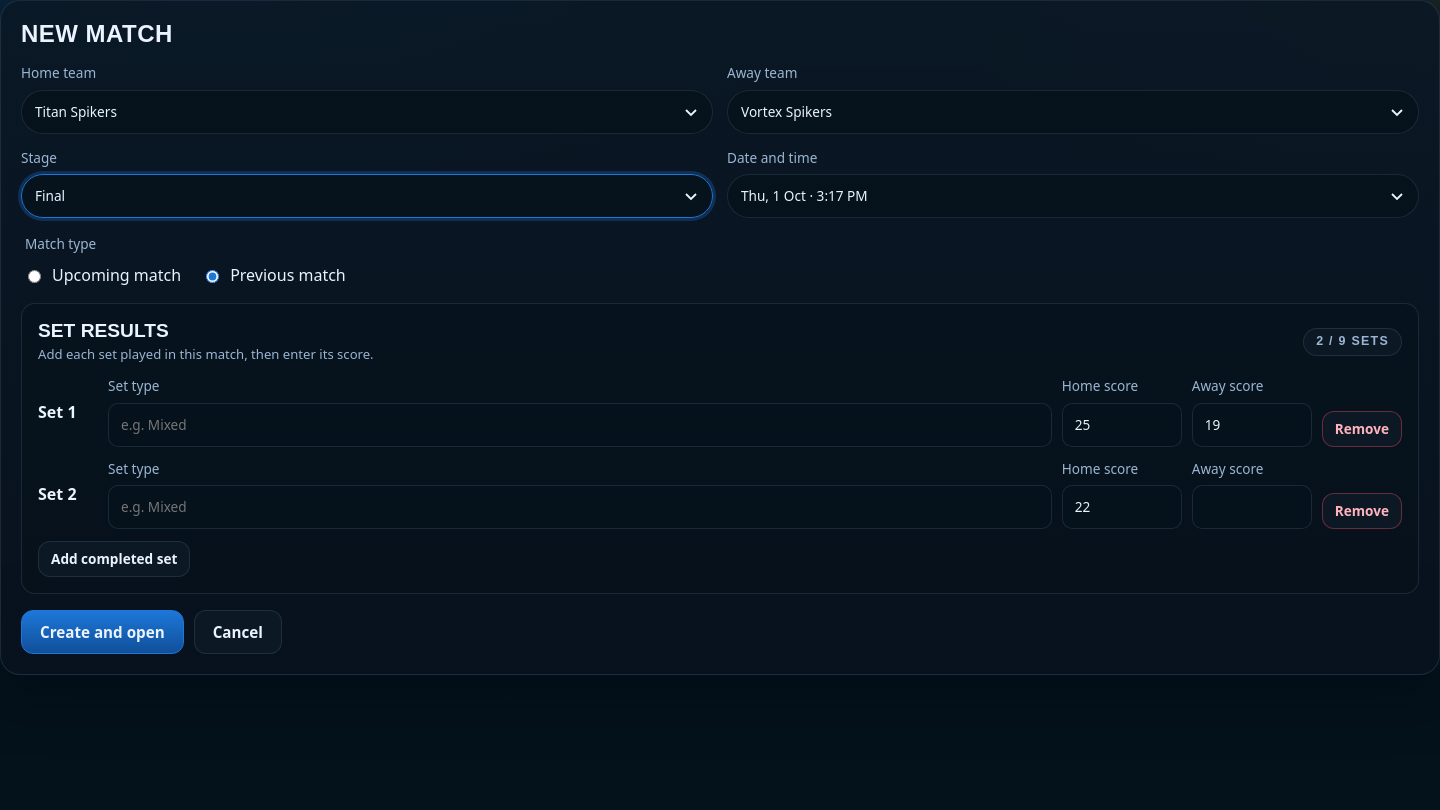
Test: new match form › creates a past completed match with its details and all set scores in one request
Earlier steps of the test are not shown.
Type "25" into the number field named "Set 2 away score".
click(1252, 507); type("25")  # box [1192,485,1312,529]
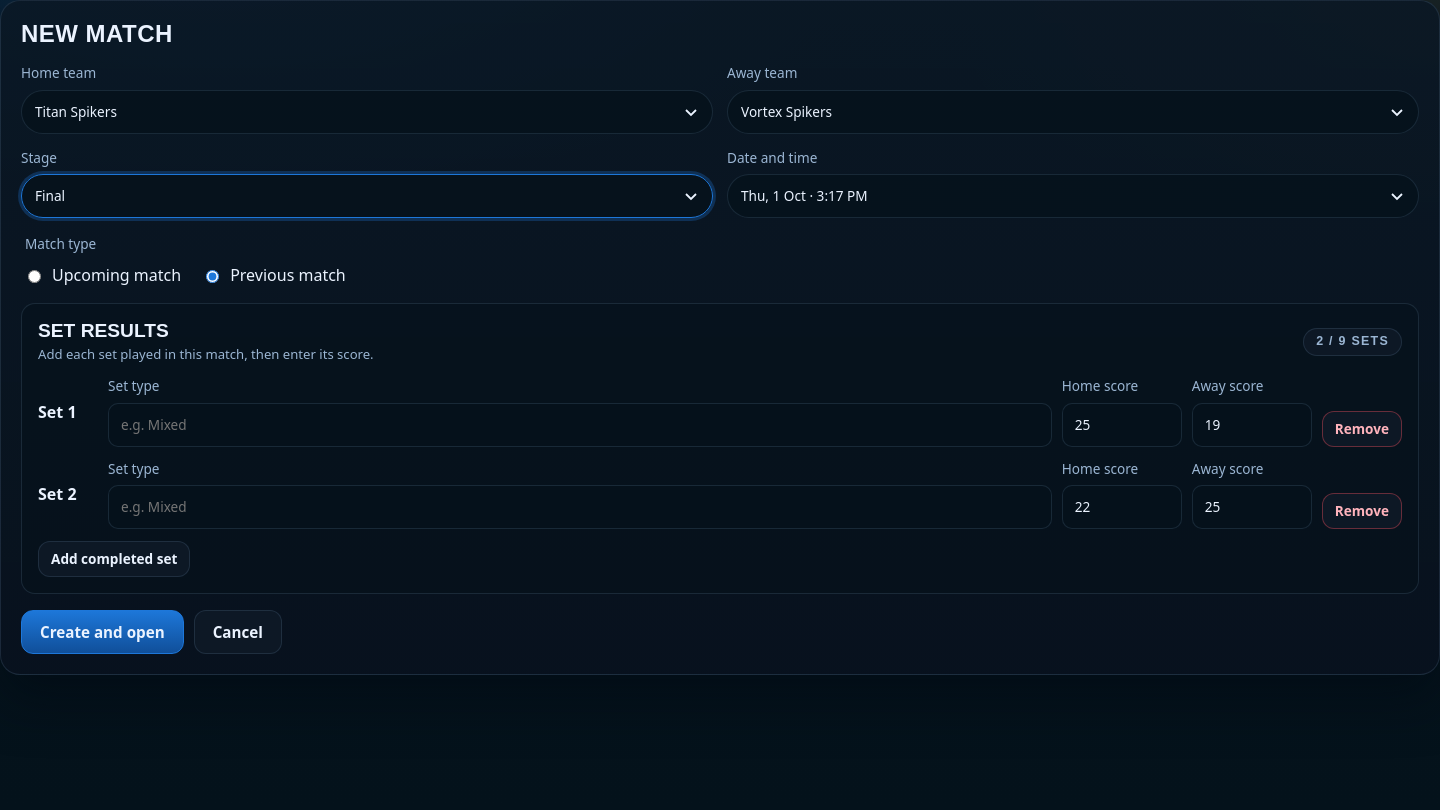
Click the button "Create and open".
click(102, 632)  # box [21,610,184,654]
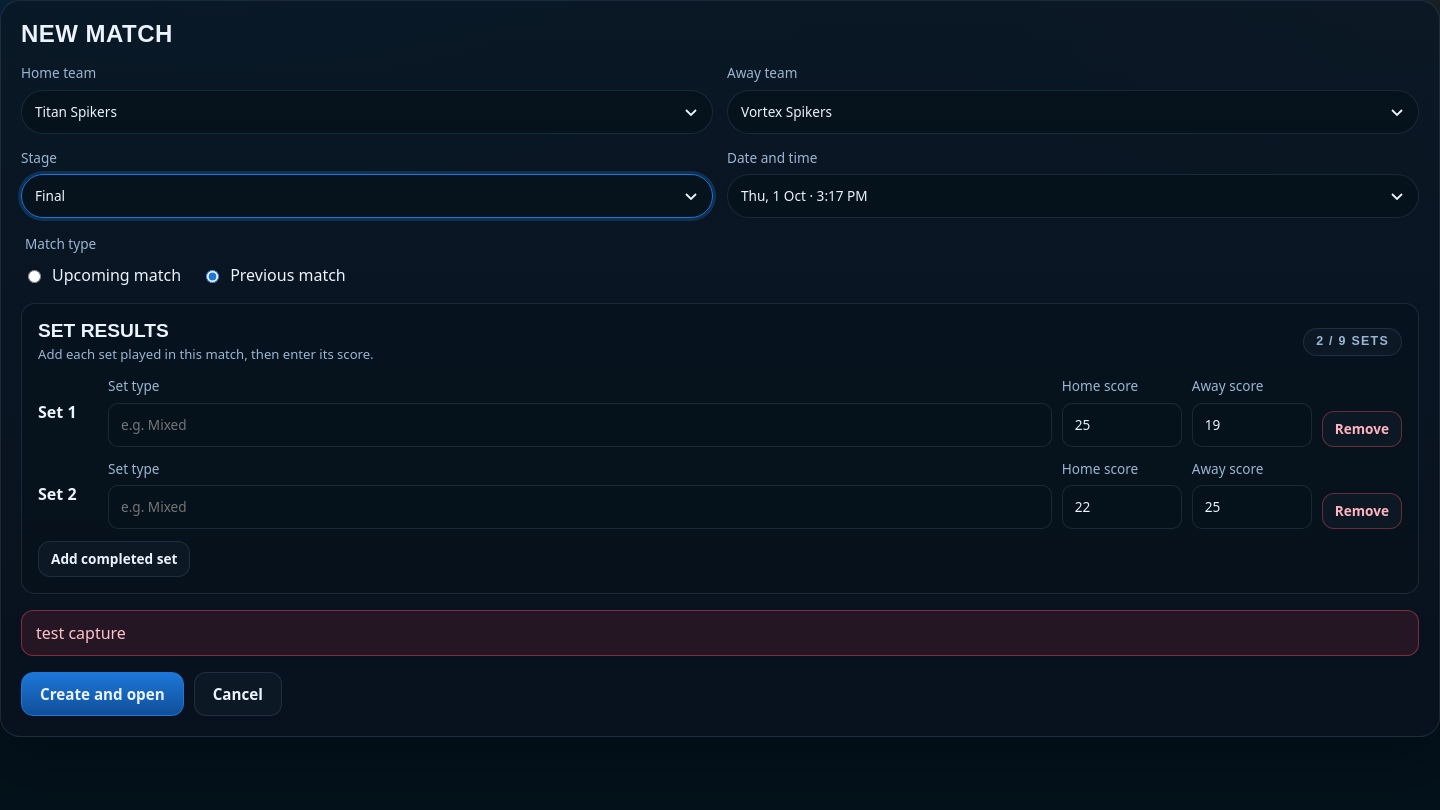
Expected: the text "Final" is shown, [35,186,65,206]
Expected: the message "test capture" is shown, [21,610,1419,656]
